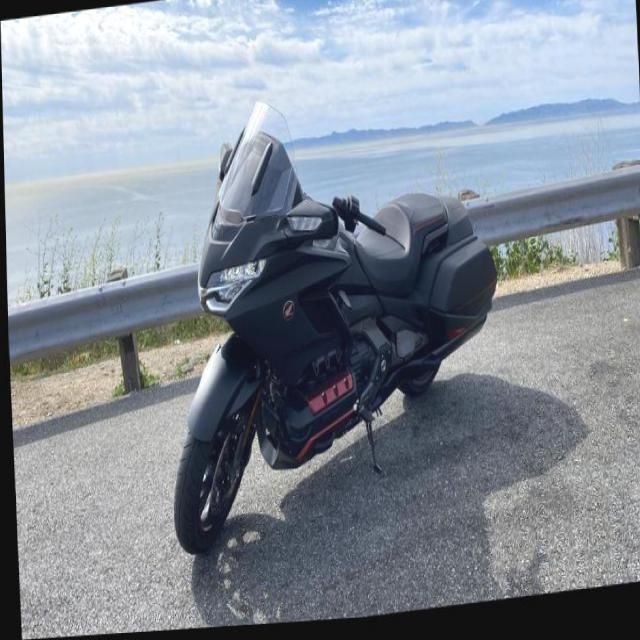Gold Wing: (156, 75, 510, 563)
